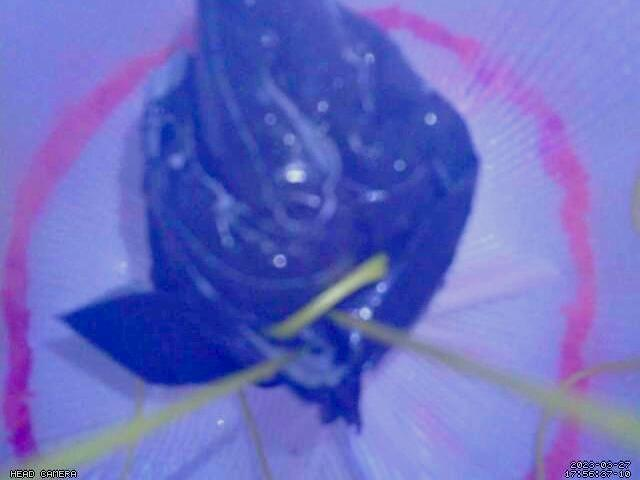head: (1, 0, 597, 480)
